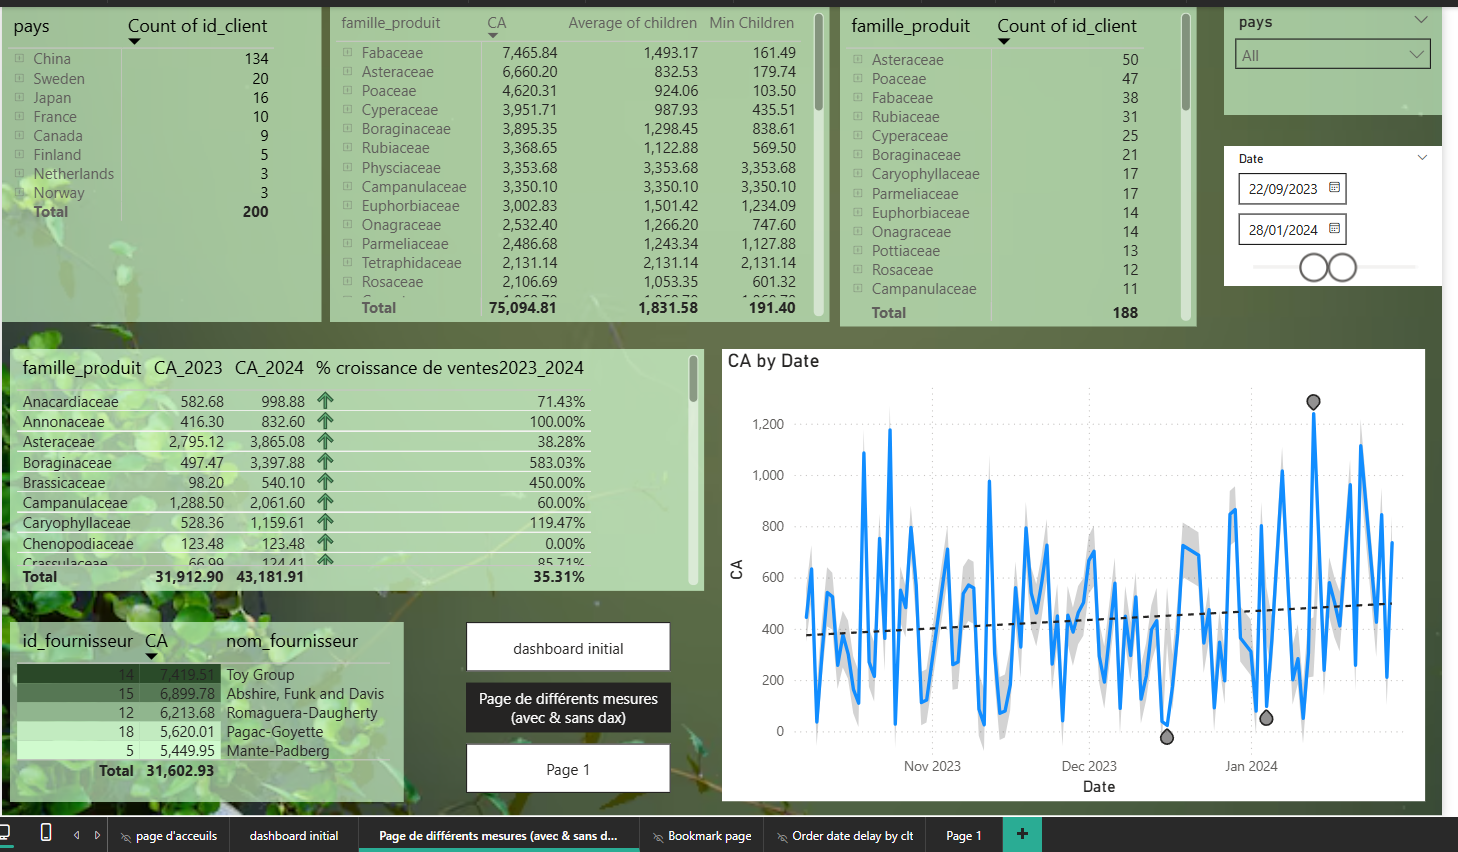

The page's visual inventory and layout, read from the dashboard file:
{"tool":"powerbi","page":{"name":"Page de différents mesures (avec & sans dax)","canvas":[1280,720],"ordinal":2},"visuals":[{"type":"pivotTable","fields":{"Rows":["clients.pays","clients.ville"],"Values":["Count(clients.id_client)"]},"box":[0,0,284,280],"z":0},{"type":"pivotTable","fields":{"Rows":["produits.famille_produit","produits.nom_produit"],"Values":["Count(ventes 2023-2024.id_client)"]},"box":[744.9,0,317,283.7],"z":1000},{"type":"tableEx","fields":{"Values":["produits.id_fournisseur","ventes 2023-2024.CA","fournisseurs.nom_fournisseur"]},"box":[7.2,546.3,349.7,159.5],"z":2000},{"type":"tableEx","fields":{"Values":["produits.famille_produit","ventes 2023-2024.CA_2023","ventes 2023-2024.CA_2024","ventes 2023-2024.% croissance de ventes2023_2024"]},"box":[7.2,303.8,617.5,215.4],"z":3000},{"type":"slicer","fields":{"Values":["clients.pays"]},"box":[1085.9,0,194.1,96.1],"z":4000},{"type":"pivotTable","fields":{"Rows":["produits.famille_produit","produits.nom_produit"],"Values":["ventes 2023-2024.CA","select","select1"]},"box":[291.1,0,443.6,280],"z":5000},{"type":"lineChart","fields":{"Category":["Date 2023-2024.Date"],"Y":["ventes 2023-2024.CA"]},"box":[640,303.8,624.7,402],"z":6000},{"type":"slicer","fields":{"Values":["Date 2023-2024.Date"]},"box":[1086.2,123.6,193.8,124.4],"z":7000},{"type":"pageNavigator","box":[412.4,546.7,182.2,153.8],"z":8000}]}

Visuals, with their boxes in screenshot pixels (x1, y1, x2, y2):
pivotTable - clients.pays x clients.ville: (0,4,319,318)
pivotTable - produits.famille_produit x produits.nom_produit: (837,4,1193,322)
tableEx - produits.id_fournisseur x ventes 2023-2024.CA: (8,617,401,797)
tableEx - produits.famille_produit x ventes 2023-2024.CA_2023: (8,345,702,587)
slicer - clients.pays: (1220,4,1438,112)
pivotTable - produits.famille_produit x produits.nom_produit: (327,4,825,318)
lineChart - Date 2023-2024.Date x ventes 2023-2024.CA: (719,345,1421,797)
slicer - Date 2023-2024.Date: (1220,143,1438,282)
pageNavigator: (463,618,668,791)
